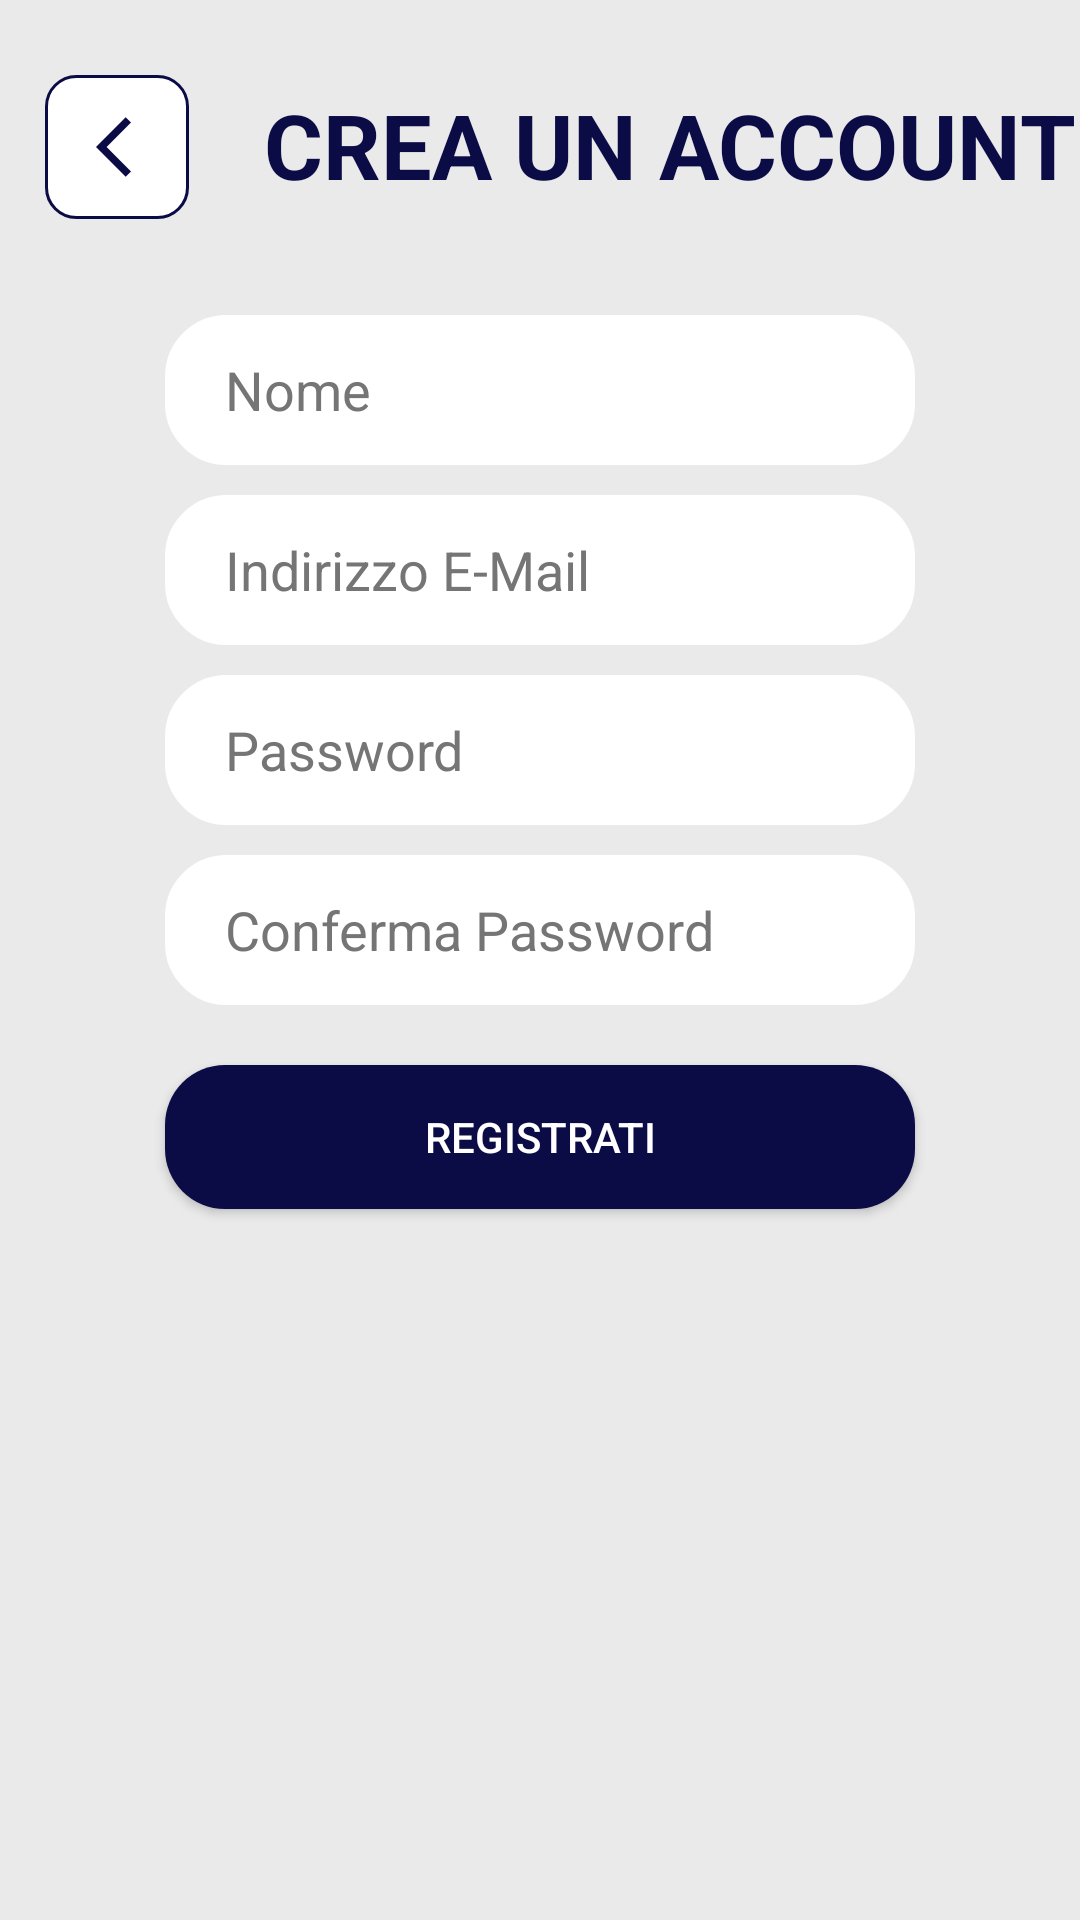

Screen size 1080px x 1920px. Icon name, then its box in pixels as (x1, y1, x2, y2):
Indietro: (45, 75, 189, 219)
